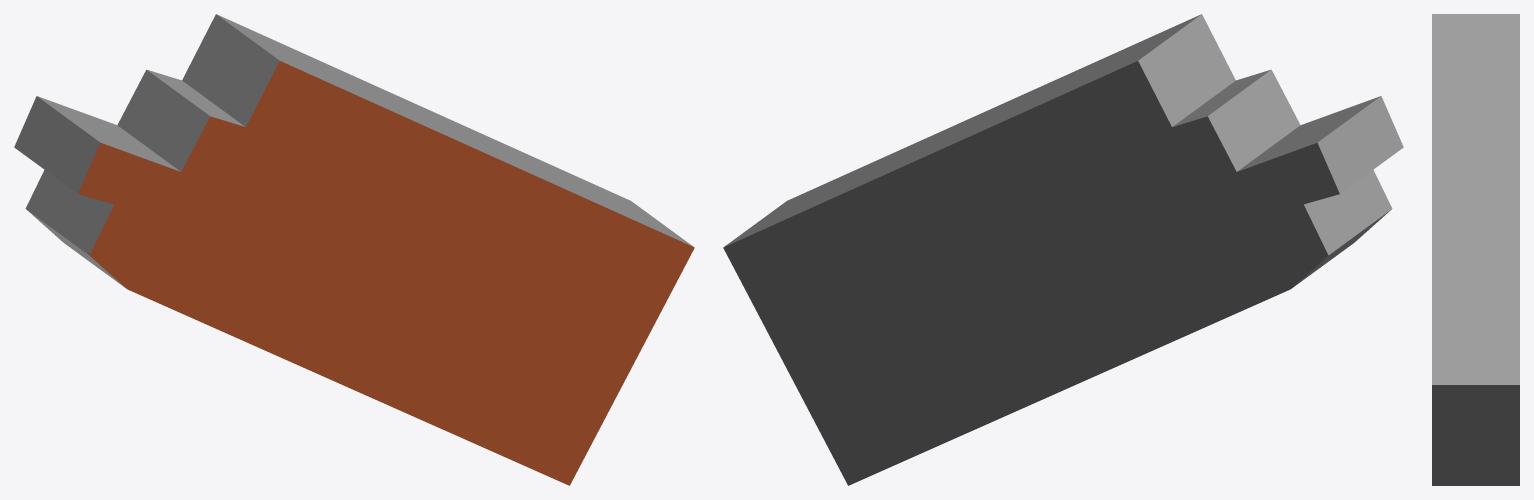
Rendered from construction_5347_assumed_A_Casa_h6m.obj.
The picture shows the model from 3 angles, left to right: view 1: azimuth 30°, elevation 25°; view 2: azimuth 150°, elevation 25°; view 3: azimuth 270°, elevation 25°; orthographic projection. The views are drawn at different scales.
Parts seen in each view (by area): view 1: construction_5347_assumed_A_Casa; view 2: construction_5347_assumed_A_Casa; view 3: construction_5347_assumed_A_Casa.
Part boxes in pixels (left/top/right/bottom): construction_5347_assumed_A_Casa: left=14, top=14, right=694, bottom=485; construction_5347_assumed_A_Casa: left=723, top=14, right=1403, bottom=485; construction_5347_assumed_A_Casa: left=1432, top=14, right=1519, bottom=485.
Size of the model in its own units: 33.45 by 25.69 by 6.
